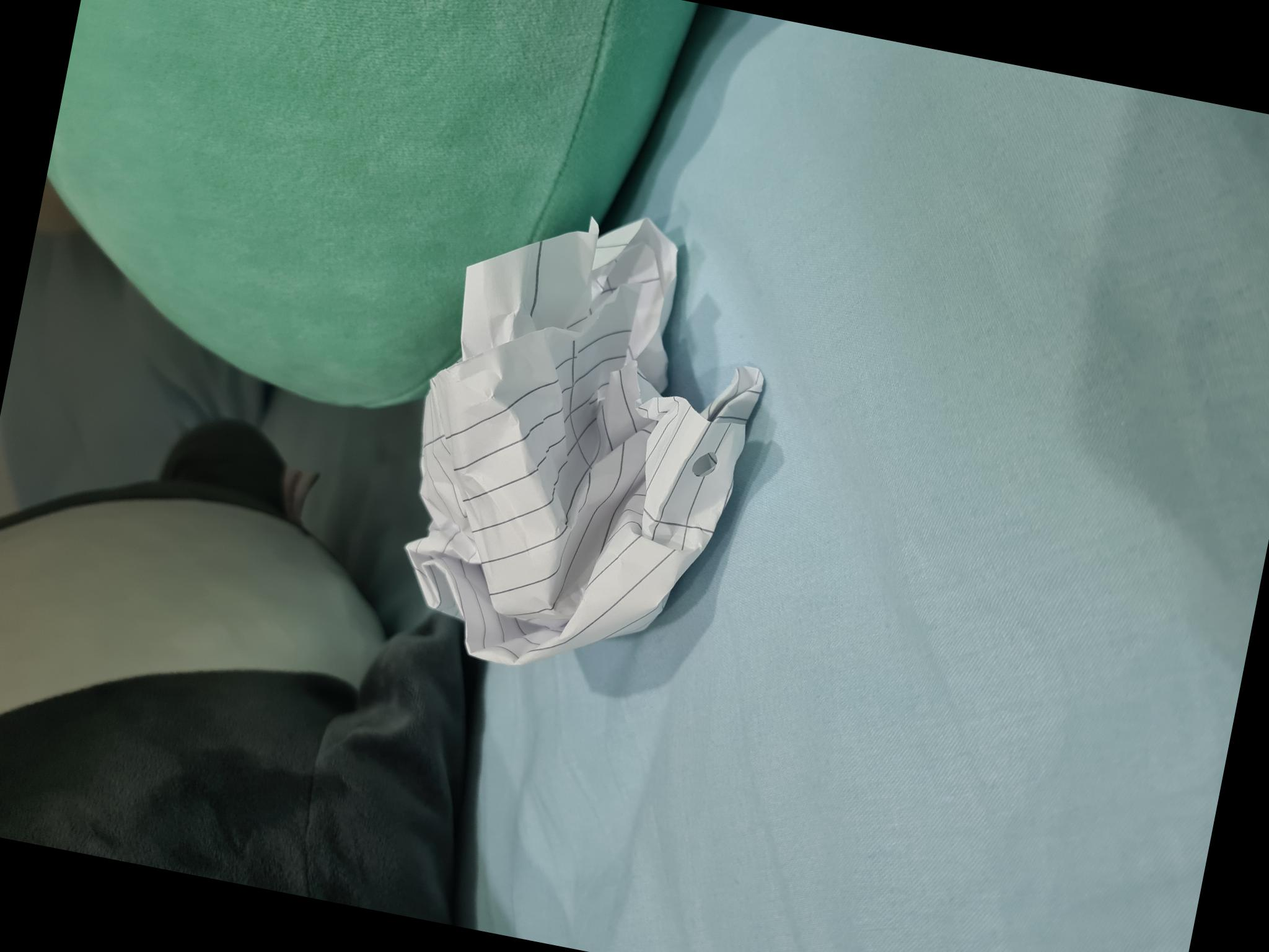Kertas: (260, 372, 704, 730)
